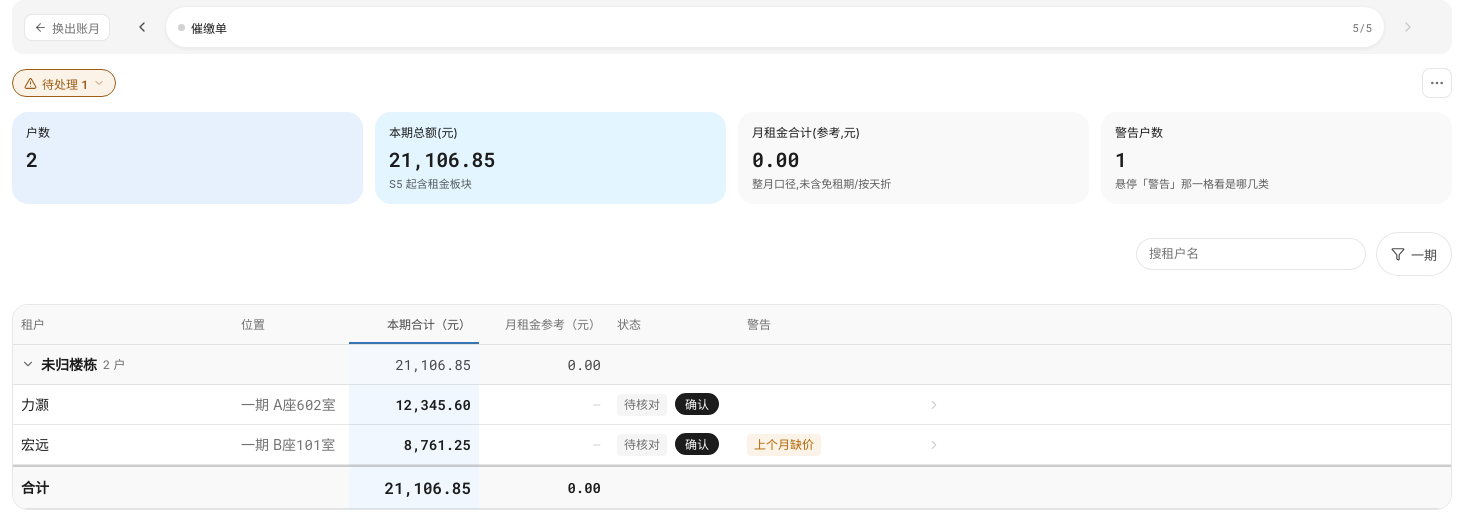
Test: §5.10 屏标题行 —— 屏名不上屏,动作收成 1 主 +「⋯」,状态留一颗徽标 › S 档:主动作搬进顶栏(行上没有编辑按钮),另外六个入口一个不剩地进了「⋯」
Expected: the element with class "ds-btn" does not show "收款公司"
Expected: the element with class "ds-btn" does not show "导出通知单"
Click the button with class "fp-more-btn" at {"x": 1437, "y": 83}, box [1422, 68, 1452, 98]
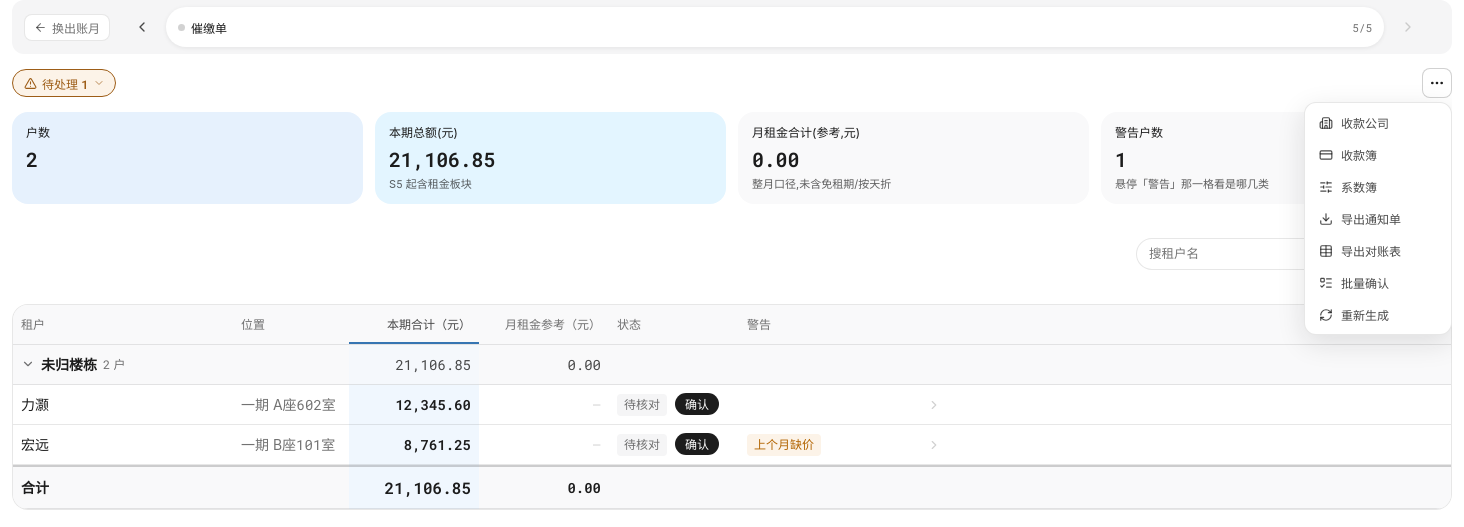
Expected: the menu item with class "fp-more-item" reads "收款公司", [1309, 107, 1447, 138]
Expected: the menu item with class "fp-more-item" reads "收款簿", [1309, 139, 1447, 170]
Expected: the menu item with class "fp-more-item" reads "系数簿", [1309, 171, 1447, 202]
